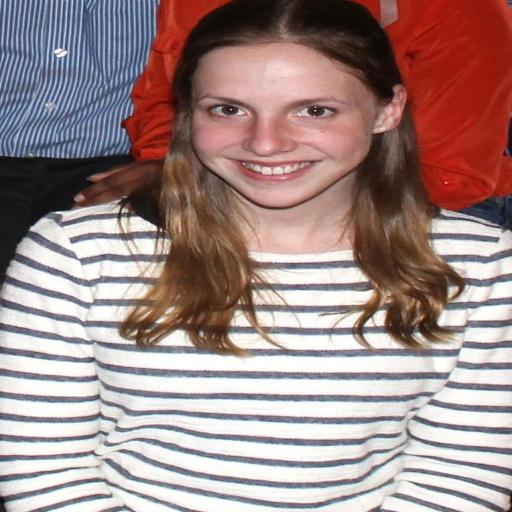person: (0, 0, 511, 511), (0, 0, 158, 281), (358, 0, 511, 210)
